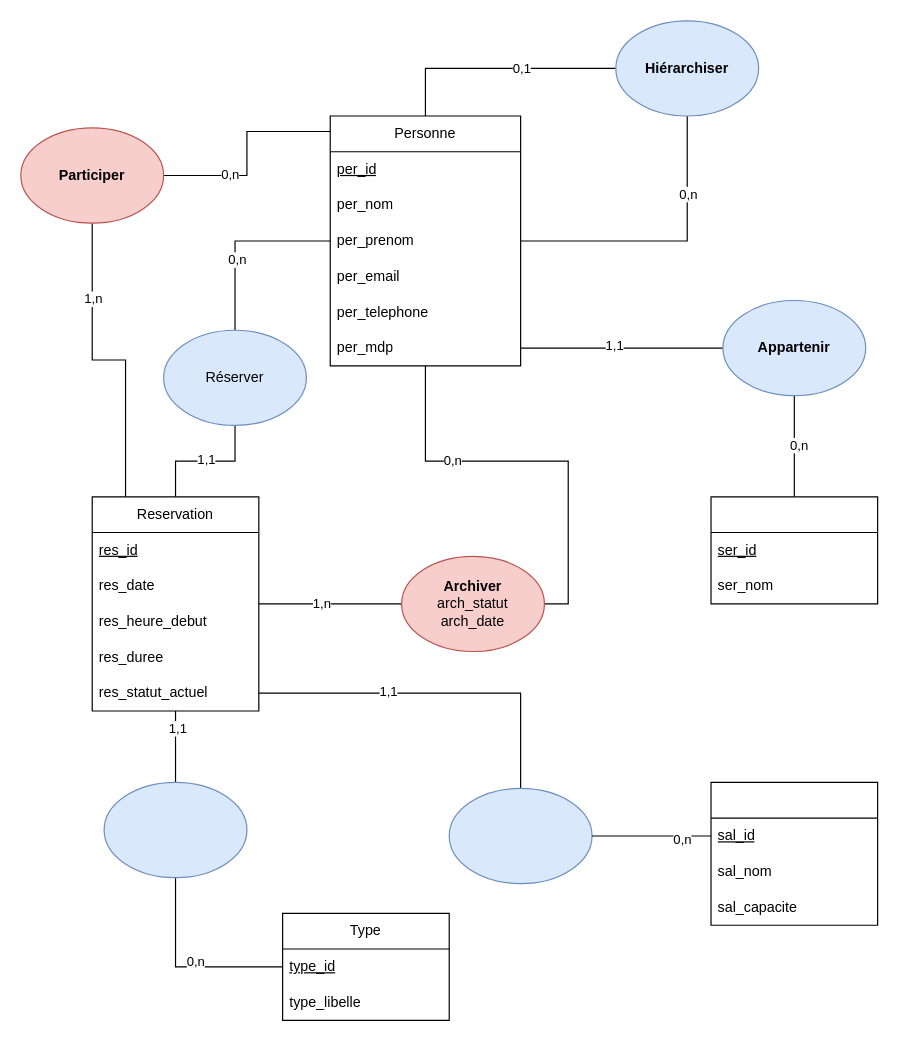
The diagram is 898 pixels wide and 1041 high, and some of its shapes have lost their labels. The shapes that lost their labels are listed below. From the top down, each one's box as (x1, y1, x2, y2) in pixels, then its label:
(710, 496, 878, 604): Service
(103, 781, 247, 878): Etre
(448, 787, 592, 884): Bloquer
(710, 781, 878, 925): Salle
